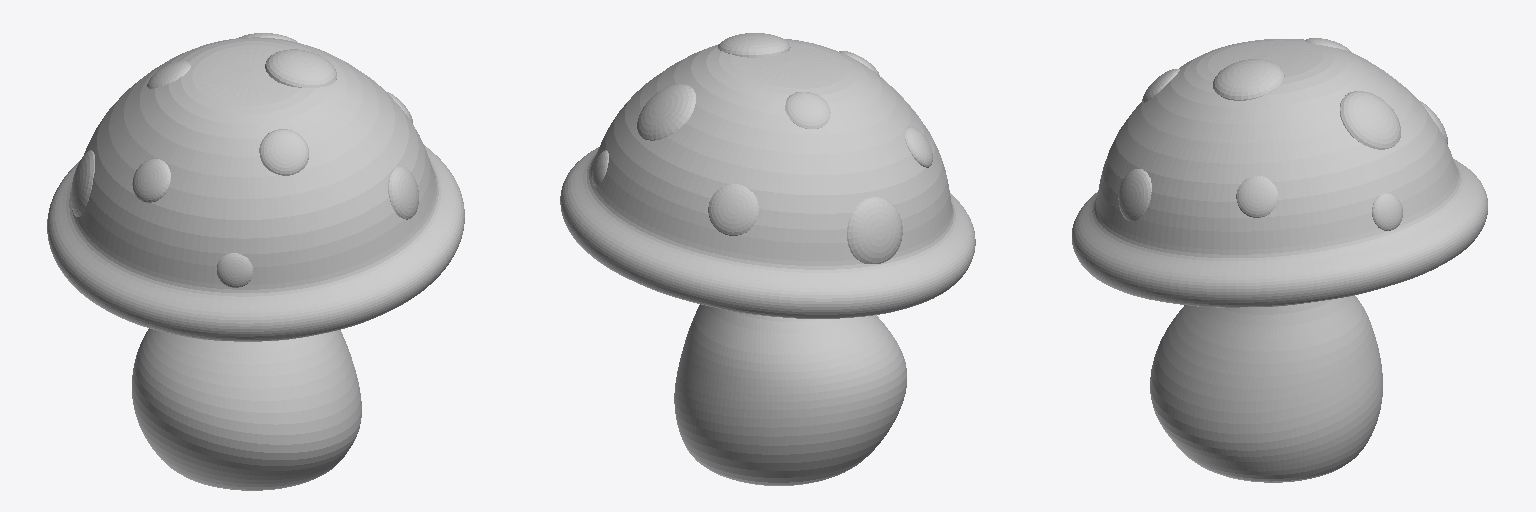
File: platinum-shroom.obj
3 views of the same model, side by side, from view 1: azimuth 30°, elevation 25°; view 2: azimuth 150°, elevation 25°; view 3: azimuth 270°, elevation 25° (orthographic).
Visible parts, largest first — view 1: Mushroom_Cylinder.001; view 2: Mushroom_Cylinder.001; view 3: Mushroom_Cylinder.001.
Part boxes in pixels (bbox=[...]): Mushroom_Cylinder.001: bbox=[47, 33, 464, 490]; Mushroom_Cylinder.001: bbox=[560, 33, 975, 485]; Mushroom_Cylinder.001: bbox=[1072, 38, 1487, 482].
Bounding box in the file's own units: 4.52 × 4.84 × 4.52.